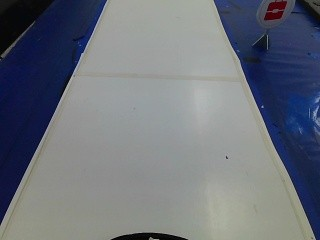company: (251, 0, 296, 31)
